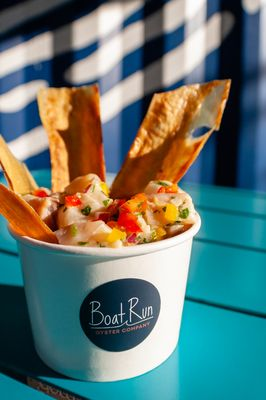pizza: (14, 227, 199, 383)
